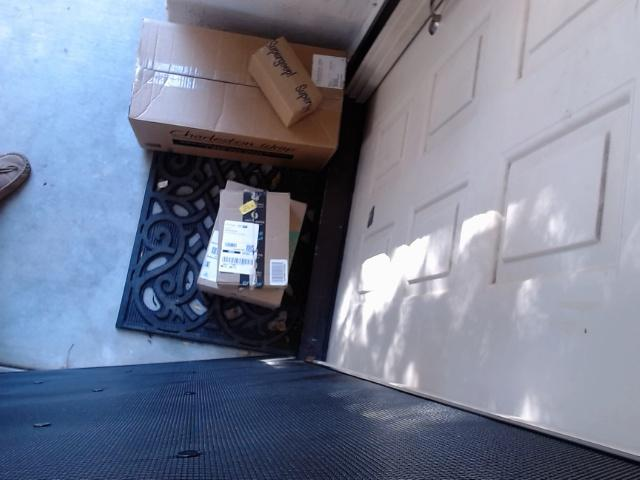box: (108, 0, 378, 181), (163, 172, 315, 329), (235, 23, 337, 152), (198, 179, 299, 290)
